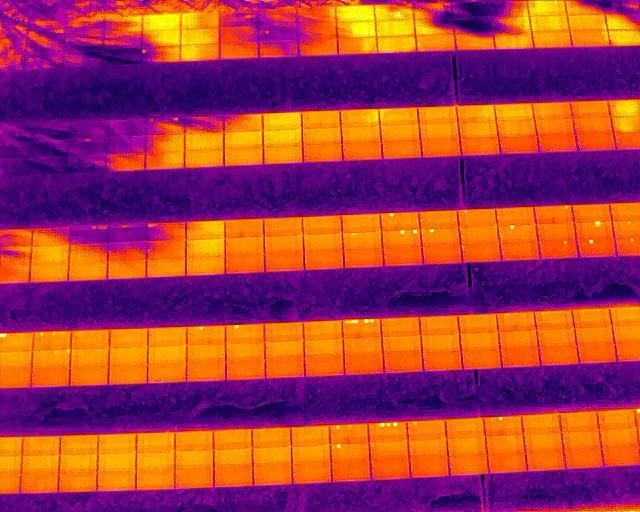Cell: (484, 415, 522, 436), (407, 419, 446, 439), (577, 237, 615, 257), (225, 324, 264, 343), (187, 326, 225, 345), (539, 240, 577, 259), (331, 443, 369, 462), (458, 209, 496, 228), (498, 225, 537, 243), (462, 244, 500, 262), (421, 226, 459, 244), (575, 220, 613, 238), (535, 205, 573, 223), (343, 232, 382, 249), (380, 213, 419, 230)
Cell-Multi: (330, 424, 368, 444), (33, 331, 71, 350), (369, 422, 407, 441), (146, 117, 185, 135), (32, 350, 69, 368), (381, 229, 420, 246)
No-Anomaly: (20, 470, 59, 494), (265, 356, 304, 378), (305, 354, 344, 376), (344, 352, 383, 374), (293, 461, 332, 483), (332, 459, 371, 481), (384, 244, 422, 266), (539, 344, 578, 365), (449, 454, 488, 475), (22, 436, 61, 457), (599, 428, 638, 449), (252, 427, 291, 448), (422, 350, 461, 371), (96, 470, 135, 491), (291, 426, 330, 447), (446, 417, 485, 438), (303, 143, 343, 163), (569, 29, 611, 48), (462, 349, 500, 370), (215, 465, 253, 486), (253, 464, 291, 485), (371, 459, 409, 480), (148, 327, 187, 347), (497, 312, 536, 332), (572, 308, 611, 328), (69, 261, 108, 281), (422, 244, 461, 264), (370, 439, 409, 459), (562, 431, 601, 451), (108, 364, 147, 384), (226, 360, 265, 380), (501, 347, 540, 367), (175, 468, 214, 488), (597, 409, 636, 429), (535, 309, 572, 330), (488, 453, 525, 474), (578, 344, 616, 364), (303, 321, 343, 340), (29, 262, 67, 282), (146, 258, 186, 277), (186, 238, 224, 258), (186, 219, 224, 239), (532, 31, 572, 50), (59, 453, 97, 473), (136, 451, 174, 471), (409, 438, 447, 458), (60, 435, 98, 455), (175, 431, 213, 451), (214, 429, 252, 449), (384, 352, 422, 372), (59, 472, 97, 492), (144, 151, 184, 170), (342, 141, 382, 160), (382, 141, 422, 160), (499, 135, 539, 154), (536, 134, 576, 153), (411, 457, 449, 477), (522, 414, 560, 434), (560, 412, 598, 432), (187, 343, 226, 362), (71, 330, 110, 349), (109, 329, 148, 348), (575, 326, 614, 345), (265, 323, 304, 342), (420, 316, 459, 335), (225, 255, 264, 274), (344, 248, 383, 267), (338, 36, 377, 55), (20, 454, 59, 473), (526, 452, 565, 471), (175, 449, 214, 468), (486, 435, 525, 454), (98, 434, 137, 453), (524, 433, 563, 452), (31, 369, 70, 388), (70, 367, 109, 386), (147, 363, 186, 382), (187, 362, 226, 381), (184, 149, 223, 168), (224, 147, 263, 166), (263, 145, 302, 164), (421, 138, 460, 157), (460, 137, 499, 156), (340, 108, 379, 127), (448, 436, 485, 456), (136, 469, 173, 489), (381, 317, 419, 336), (459, 314, 497, 333), (186, 256, 224, 275), (265, 253, 303, 272), (305, 250, 343, 269), (225, 218, 263, 237), (495, 30, 533, 49), (564, 449, 602, 468), (253, 446, 291, 465), (136, 433, 174, 452), (70, 348, 108, 367), (342, 213, 380, 232), (529, 14, 571, 31), (602, 447, 639, 466), (226, 342, 265, 360), (383, 335, 422, 353), (537, 329, 576, 347), (264, 236, 303, 254), (536, 222, 575, 240), (180, 43, 219, 61), (376, 35, 415, 53), (181, 27, 220, 45), (302, 216, 341, 234), (576, 134, 615, 152), (185, 132, 224, 150), (341, 125, 380, 143), (420, 121, 459, 139), (573, 116, 612, 134), (263, 113, 302, 131), (302, 111, 341, 129), (417, 106, 456, 124), (533, 102, 572, 120), (567, 14, 608, 31), (148, 346, 186, 364), (108, 261, 146, 279), (501, 243, 539, 261), (181, 11, 219, 29), (214, 448, 252, 466), (419, 210, 457, 228), (496, 207, 534, 225), (343, 337, 383, 354), (421, 335, 461, 352), (416, 34, 456, 51), (380, 124, 420, 141), (497, 119, 537, 136), (534, 118, 574, 135), (571, 101, 611, 118), (265, 340, 304, 357), (304, 339, 343, 356), (460, 333, 499, 350), (499, 331, 538, 348), (225, 237, 264, 254), (303, 234, 342, 251), (219, 42, 258, 59), (336, 21, 375, 38), (376, 19, 415, 36), (142, 14, 181, 31), (292, 446, 331, 463), (224, 131, 263, 148), (263, 129, 302, 146), (302, 127, 341, 144), (458, 121, 497, 138), (379, 108, 418, 125), (456, 105, 495, 122), (31, 246, 69, 263), (460, 227, 498, 244), (97, 453, 135, 470), (109, 348, 147, 365), (264, 218, 302, 235), (572, 203, 610, 220), (495, 105, 535, 121), (336, 6, 374, 22), (528, 0, 568, 15)
Shadowing: (67, 153, 110, 174), (68, 133, 109, 155), (26, 154, 68, 175), (27, 135, 69, 156), (454, 34, 496, 54), (107, 133, 146, 154), (108, 222, 147, 242), (147, 222, 186, 242), (492, 15, 531, 35), (454, 17, 495, 36), (66, 12, 104, 32), (107, 152, 145, 172), (102, 47, 141, 66), (140, 46, 181, 64), (69, 243, 107, 262), (109, 242, 147, 261), (65, 30, 105, 48), (147, 241, 186, 259), (69, 226, 108, 244), (259, 40, 298, 58), (299, 38, 338, 56), (141, 29, 180, 47), (298, 21, 337, 39), (219, 10, 258, 28), (146, 134, 185, 152), (109, 117, 148, 135), (185, 115, 224, 133), (224, 114, 263, 132), (32, 228, 70, 246), (105, 14, 143, 32), (259, 8, 297, 26), (415, 18, 455, 35), (374, 4, 414, 21), (491, 0, 531, 17), (104, 30, 142, 47), (219, 27, 259, 43), (259, 25, 298, 41), (298, 7, 336, 23), (565, 0, 605, 15)
Unclassified: (341, 319, 380, 339)
